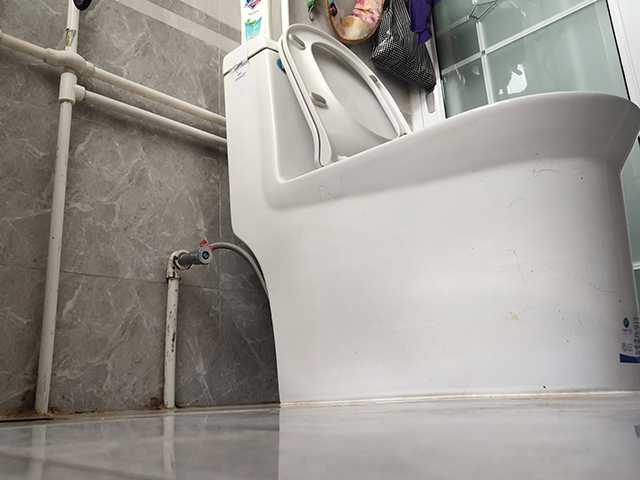closestool: (220, 21, 640, 407)
